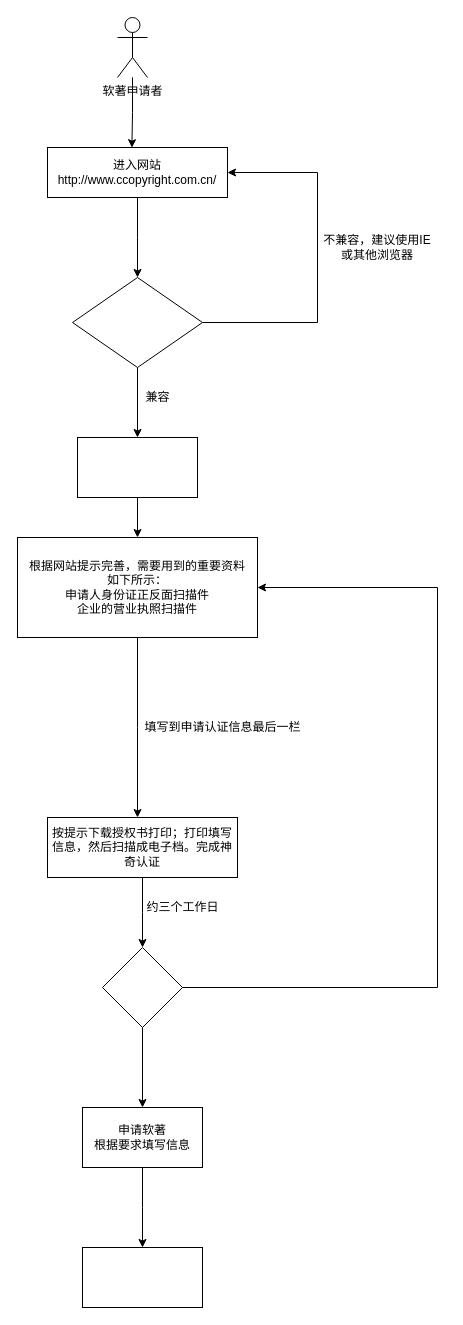
This 463x1325 diagram has some shape labels left out. Each missing label, with the centre of its shape:
审核认证: point 142,987
浏览器是否兼容: point 137,322
用户注册: point 137,467
